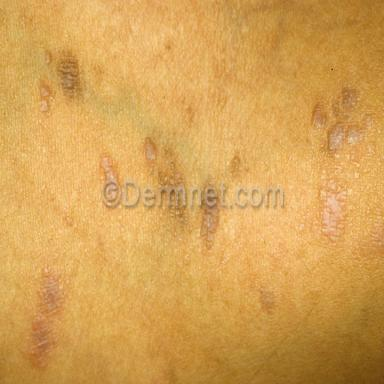lichen: (29, 266, 66, 367), (319, 167, 347, 243), (58, 51, 79, 97), (200, 208, 221, 249), (327, 122, 345, 150), (259, 286, 275, 314), (101, 154, 117, 180), (346, 125, 365, 146), (342, 87, 358, 110), (40, 84, 52, 112), (145, 137, 157, 162), (312, 105, 325, 127)
